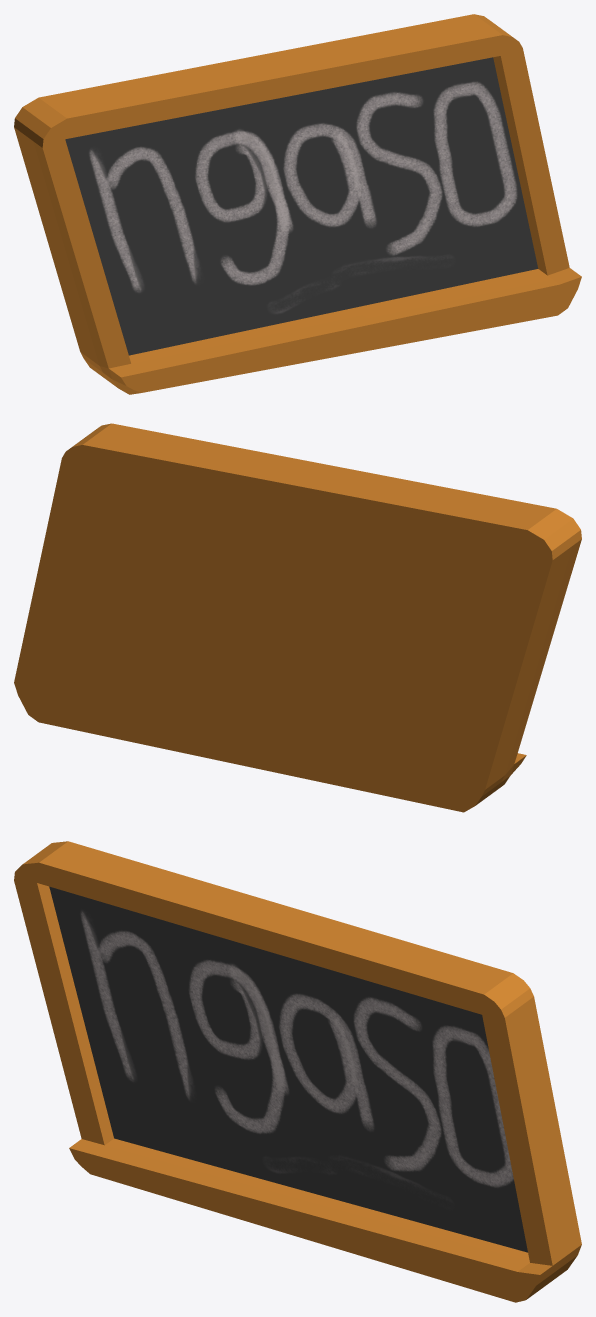
File: papan_tulis.fbx
3 renders of one model, top to bottom at view 1: azimuth 30°, elevation 25°; view 2: azimuth 150°, elevation 25°; view 3: azimuth 330°, elevation 25°, orthographic. The views are drawn at different scales.
Parts seen in each view (by area): view 1: Cube.003; view 2: Cube.003; view 3: Cube.003.
Boxes of the visible parts, <box> form: Cube.003: <box>14,14,581,394</box>; Cube.003: <box>14,423,581,812</box>; Cube.003: <box>14,841,581,1302</box>.
Bounding box in the file's own units: 757 × 418 × 102.
